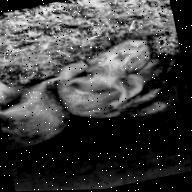boar: (47, 31, 173, 128), (0, 64, 73, 152)
